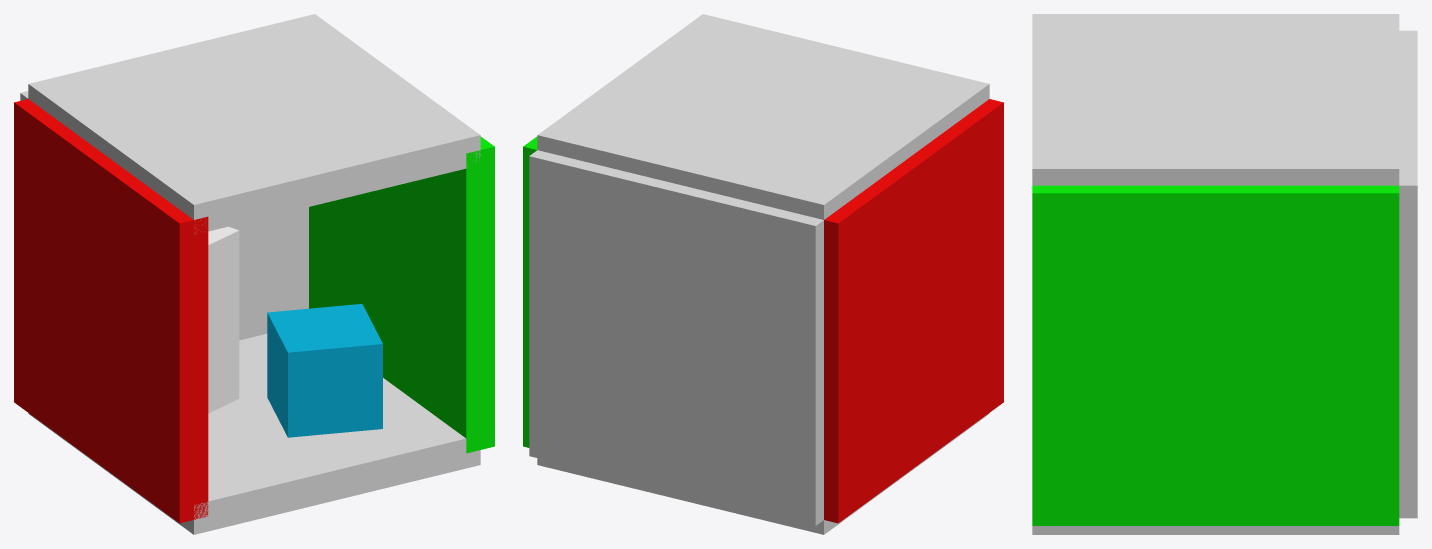
The model's file is cornell_boxes_with_mirror.glb.
The picture shows the model from 3 angles, left to right: view 1: azimuth 30°, elevation 25°; view 2: azimuth 150°, elevation 25°; view 3: azimuth 270°, elevation 25°; orthographic projection. The views are drawn at different scales.
Visible parts, largest first — view 1: Cube.001, Cube.002, Cube.003, Cube.004, Cube.006, Cube, Cube.007; view 2: Cube, Cube.001, Cube.002, Cube.004, Cube.003; view 3: Cube.003, Cube.002, Cube, Cube.004.
Part boxes in pixels (left/top/right/bottom): Cube.001: left=14, top=99, right=208, bottom=523; Cube.002: left=28, top=14, right=480, bottom=234; Cube.003: left=309, top=136, right=494, bottom=453; Cube.004: left=28, top=334, right=480, bottom=534; Cube.006: left=267, top=304, right=382, bottom=437; Cube: left=20, top=91, right=308, bottom=340; Cube.007: left=208, top=226, right=239, bottom=413; Cube: left=529, top=150, right=823, bottom=525; Cube.001: left=824, top=99, right=1003, bottom=523; Cube.002: left=537, top=14, right=989, bottom=219; Cube.004: left=537, top=413, right=989, bottom=534; Cube.003: left=523, top=136, right=537, bottom=447; Cube.003: left=1032, top=185, right=1399, bottom=525; Cube.002: left=1032, top=14, right=1399, bottom=185; Cube: left=1399, top=30, right=1417, bottom=518; Cube.004: left=1032, top=526, right=1399, bottom=534.
Bounding box in the file's own units: 2.2 × 2.2 × 2.1.
